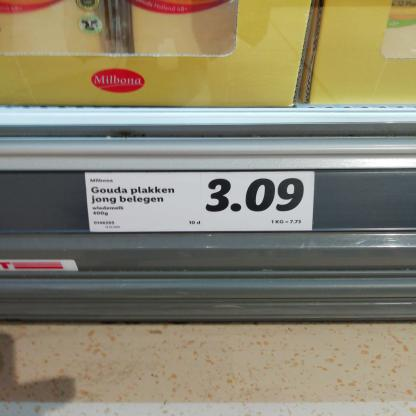prtg: (86, 173, 316, 234)
